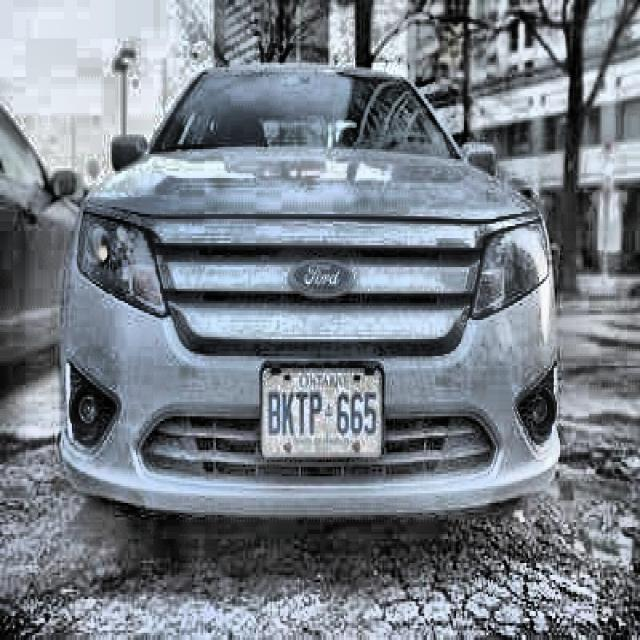license_plate: (262, 366, 382, 453)
